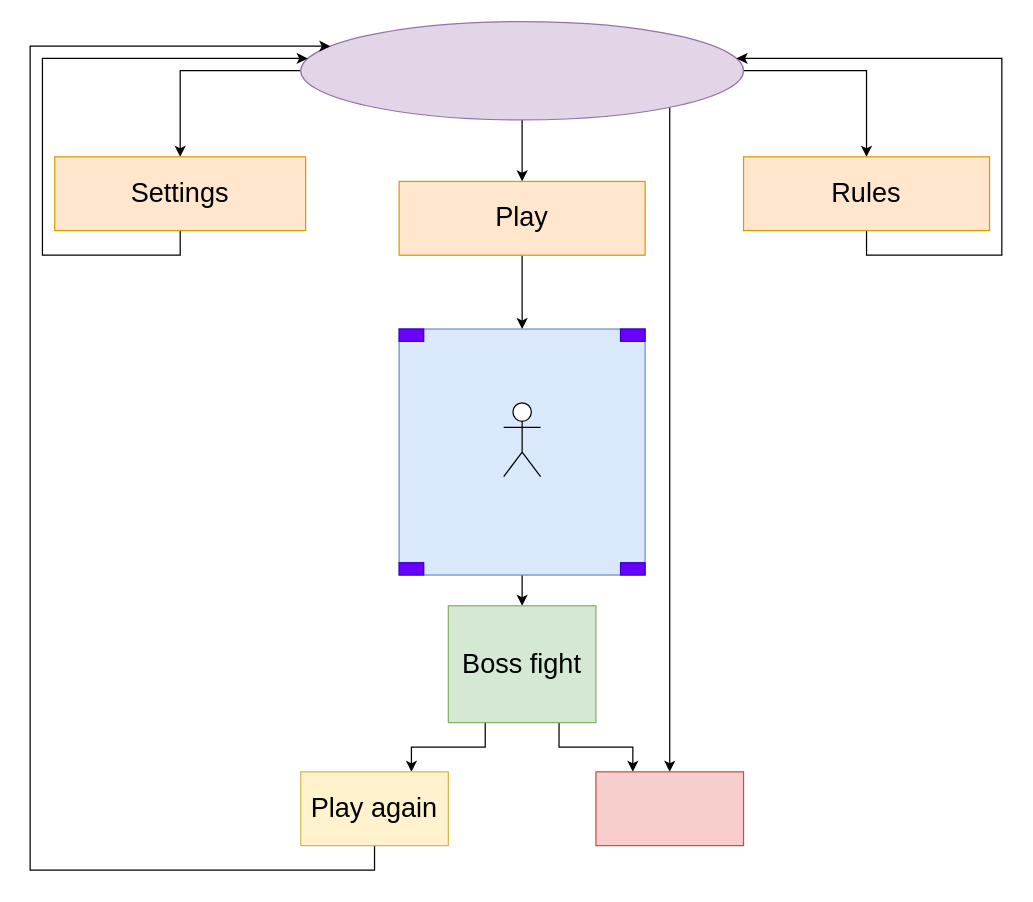
This 1033x902 diagram has some shape labels left out. Here are the shapes that lost their labels. From the top down, the box of each, then its label:
(300, 20, 744, 120): Main menu
(595, 771, 744, 846): Exit
